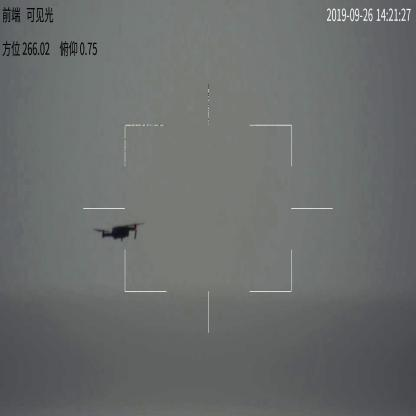uav: (92, 221, 144, 245)
